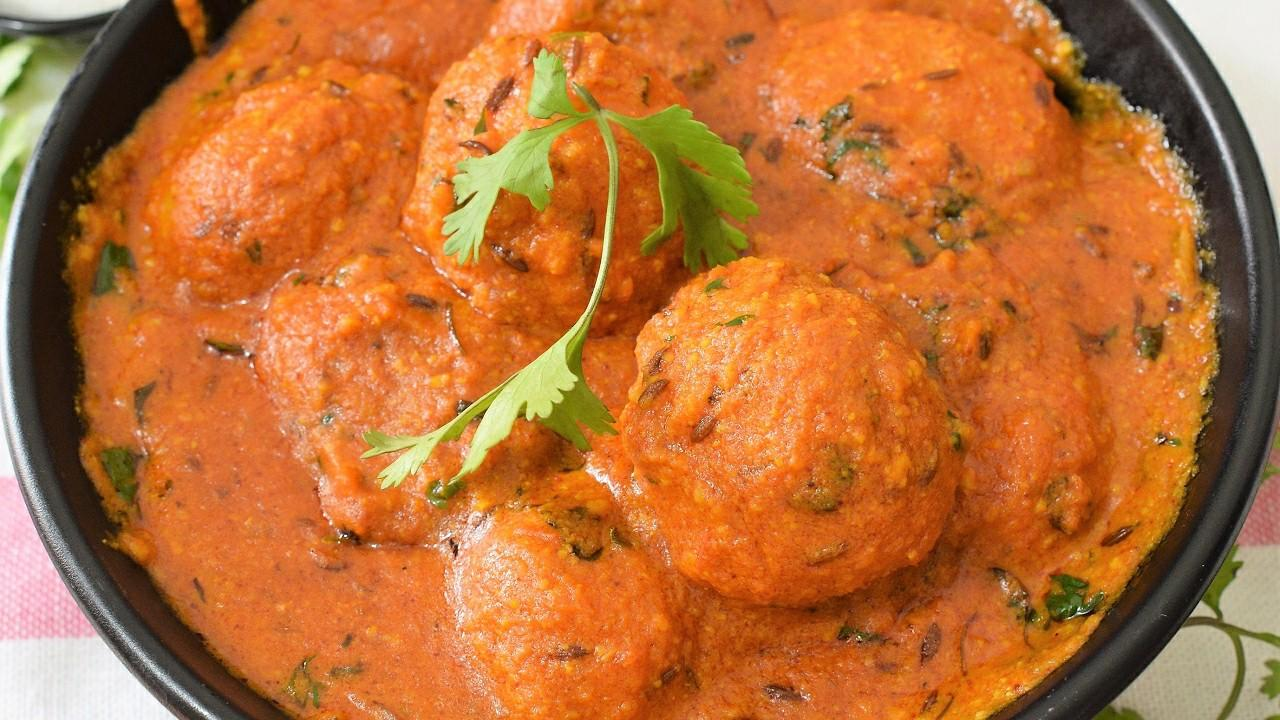DumAloo: (69, 0, 1220, 720)
